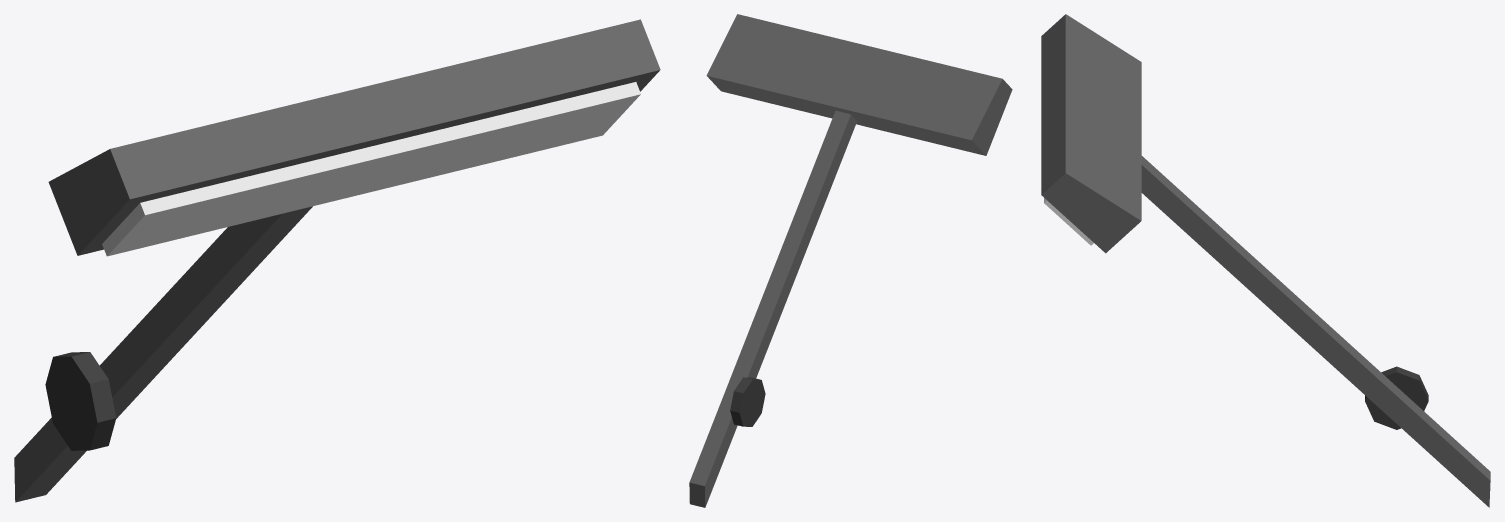
The model's file is Table Lamp 1 Ac.fbx.
3 views of the same model, side by side, from view 1: azimuth 30°, elevation 25°; view 2: azimuth 150°, elevation 25°; view 3: azimuth 270°, elevation 25° (orthographic). The views are drawn at different scales.
Parts seen in each view (by area): view 1: Table Lamp 1 Ac; view 2: Table Lamp 1 Ac; view 3: Table Lamp 1 Ac.
Boxes of the visible parts, <box> form: Table Lamp 1 Ac: <box>14,19,660,502</box>; Table Lamp 1 Ac: <box>689,14,1012,507</box>; Table Lamp 1 Ac: <box>1041,14,1490,507</box>.
Size of the model in its own units: 14.94 by 17.94 by 17.82.
